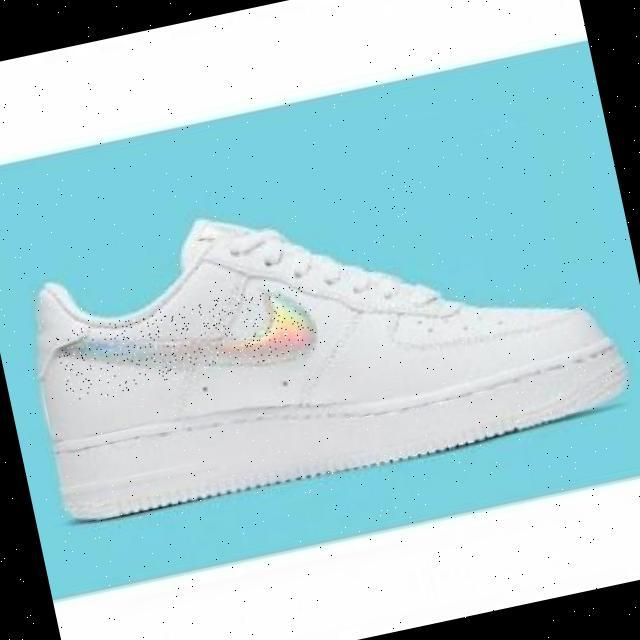Nike: (54, 280, 321, 405)
